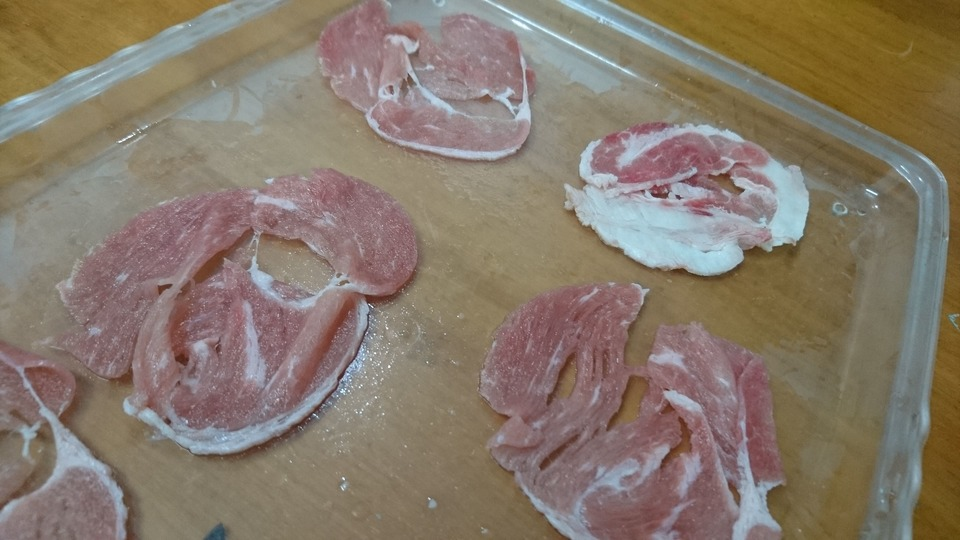restructured meat: (43, 182, 415, 442), (483, 255, 793, 535), (562, 116, 811, 282), (322, 7, 550, 163), (4, 333, 129, 540)
